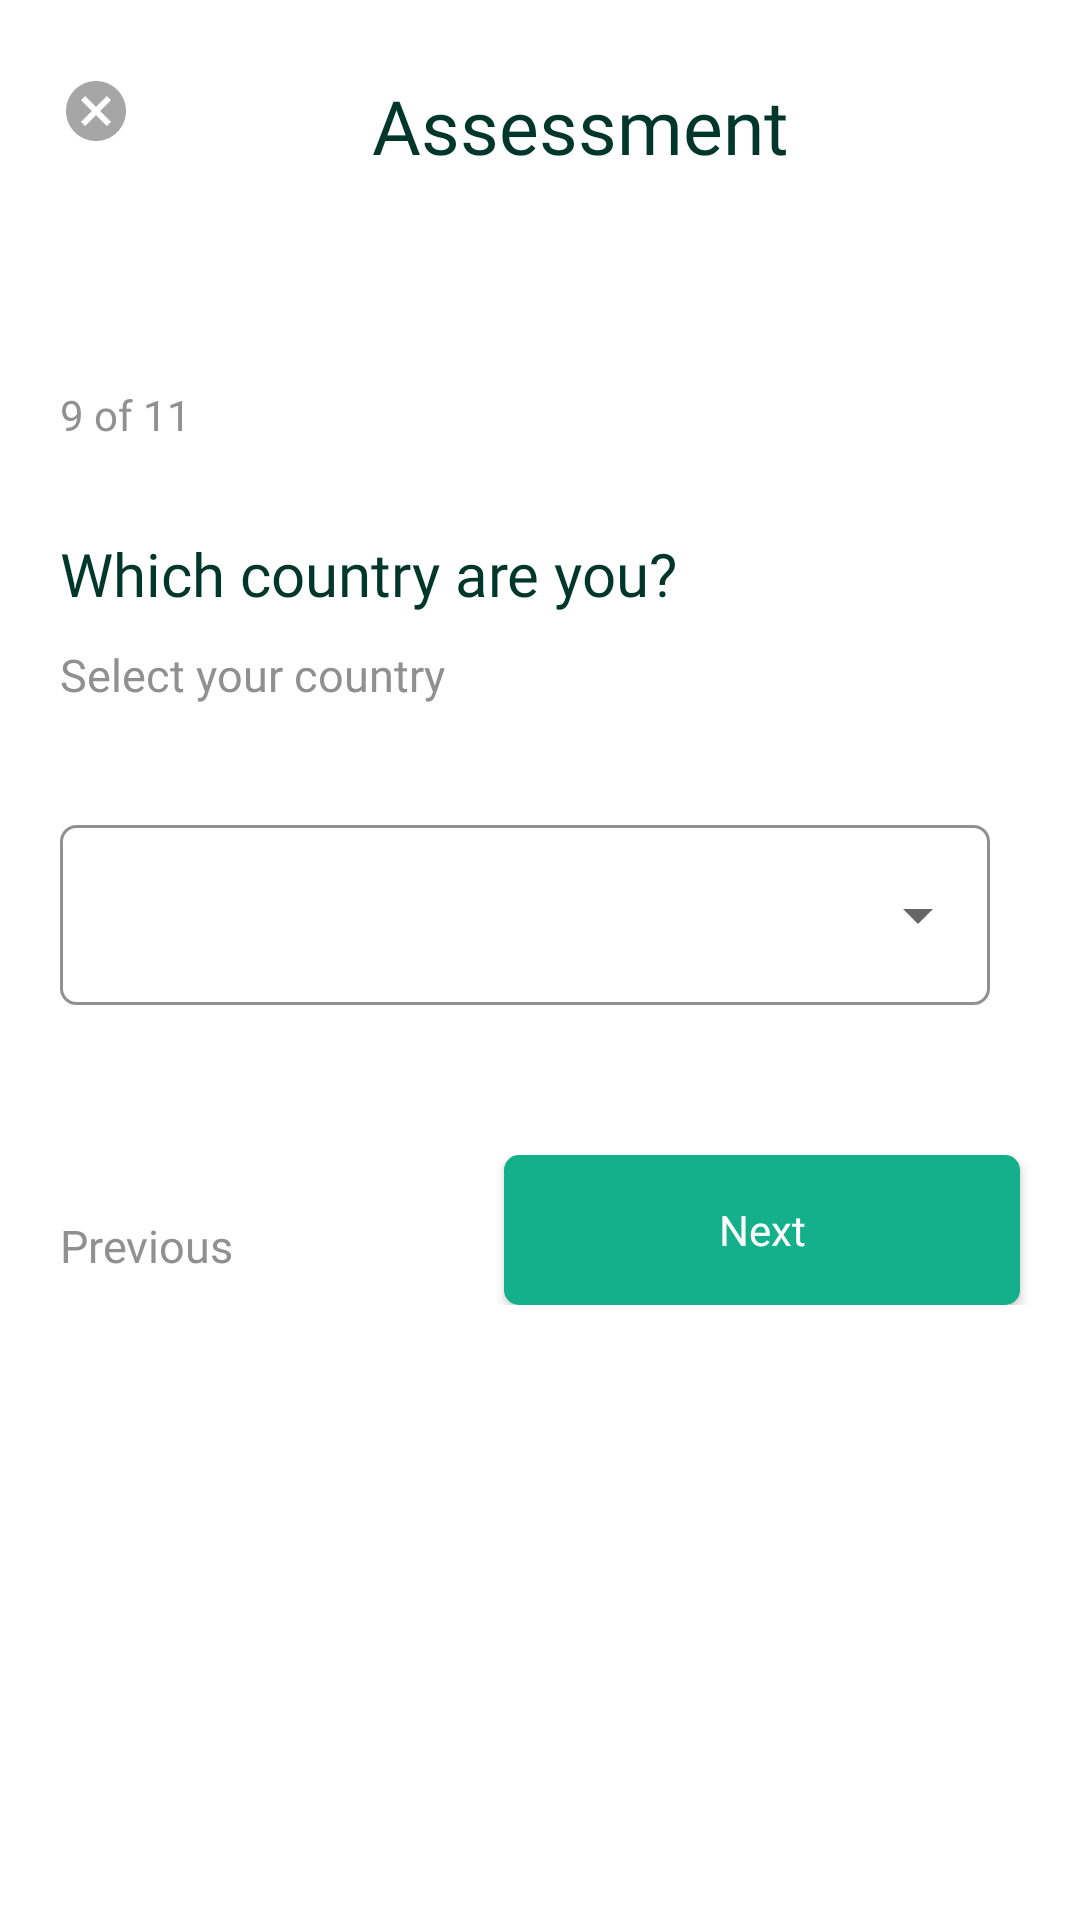

Where icons sit on this 1080w x 1920h app screen, as rect(x1, y1, x2, y2):
cancel: rect(66, 81, 126, 141)
